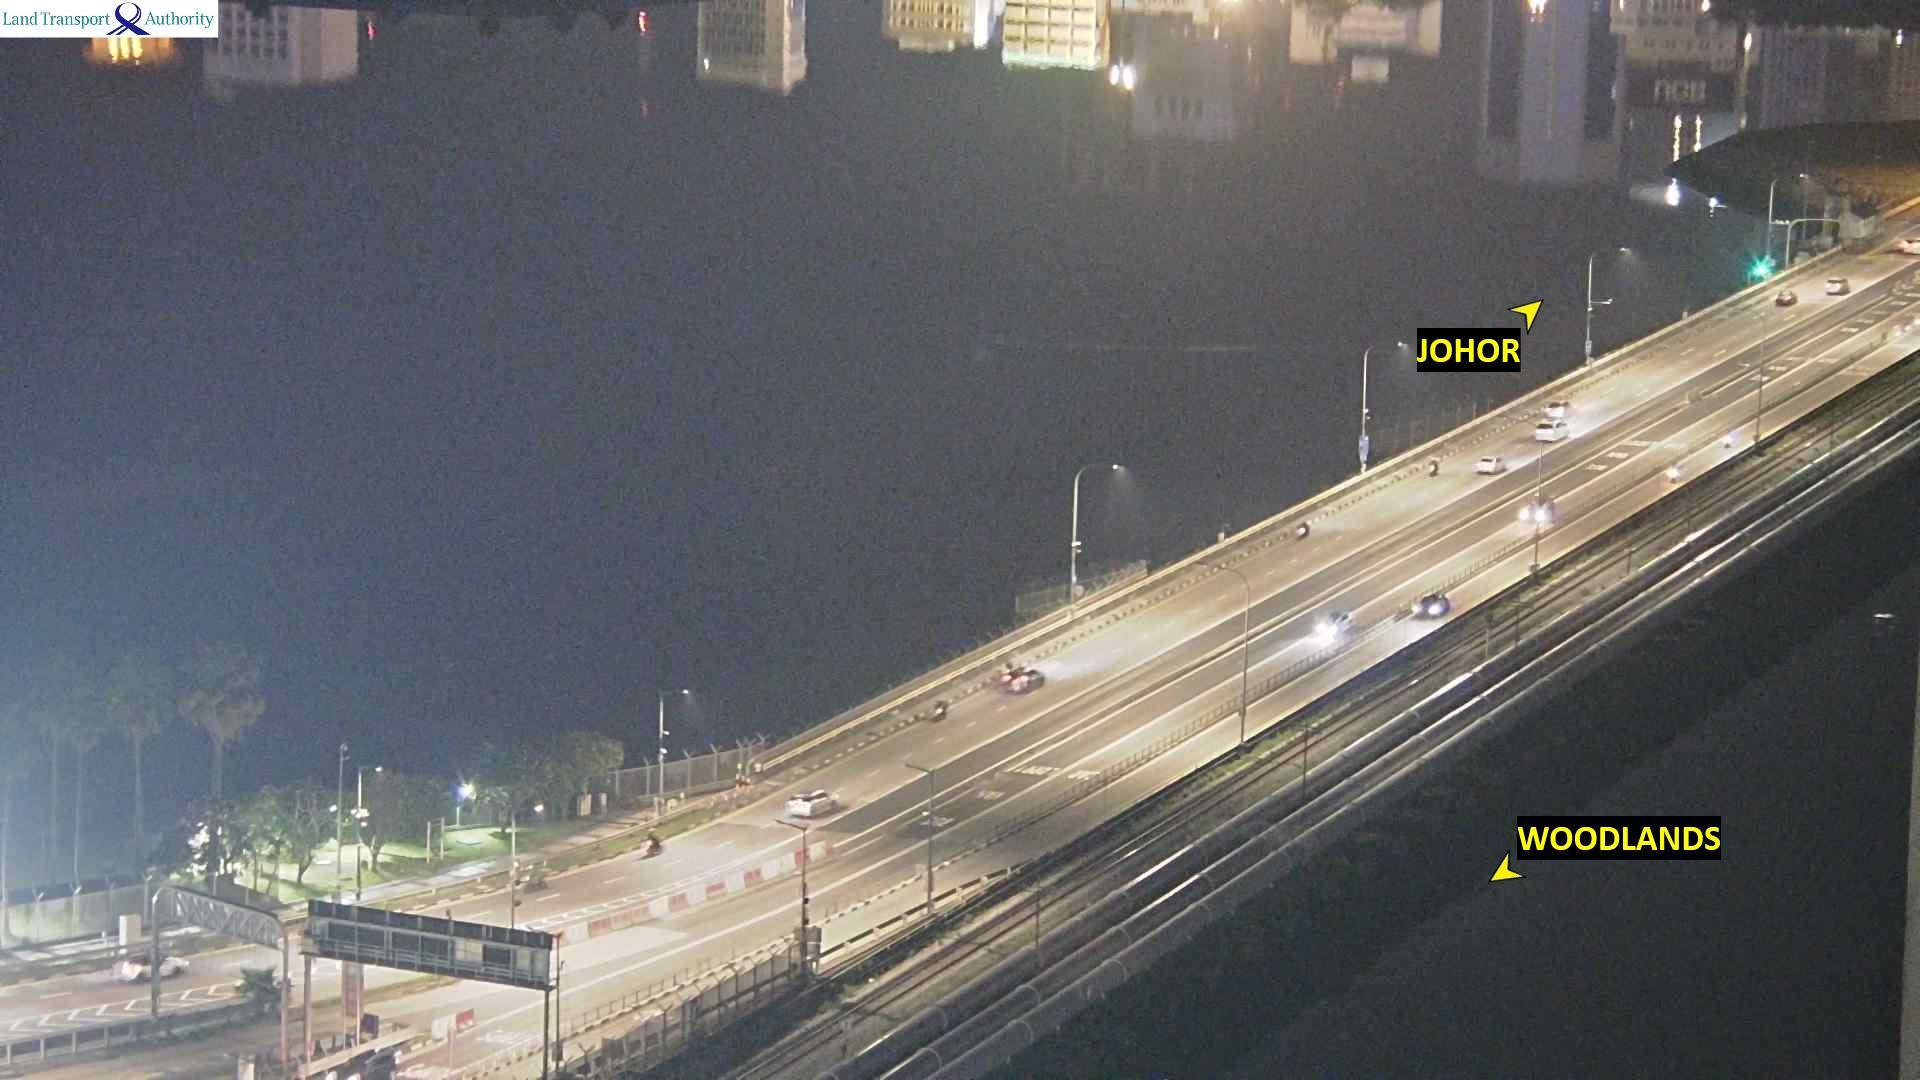vehicle-causeway-johor: (116, 952, 191, 980), (790, 788, 844, 818), (1001, 666, 1046, 695), (640, 829, 664, 861), (1472, 457, 1507, 476), (1536, 421, 1567, 441), (1426, 456, 1441, 489), (1545, 401, 1572, 419), (1825, 278, 1847, 298), (928, 700, 948, 718), (1291, 516, 1305, 541), (1781, 290, 1795, 308)
vehicle-causeway-singapore: (1523, 496, 1555, 526), (1320, 609, 1353, 637), (1417, 594, 1450, 619), (1668, 464, 1683, 490), (1721, 432, 1732, 450)
